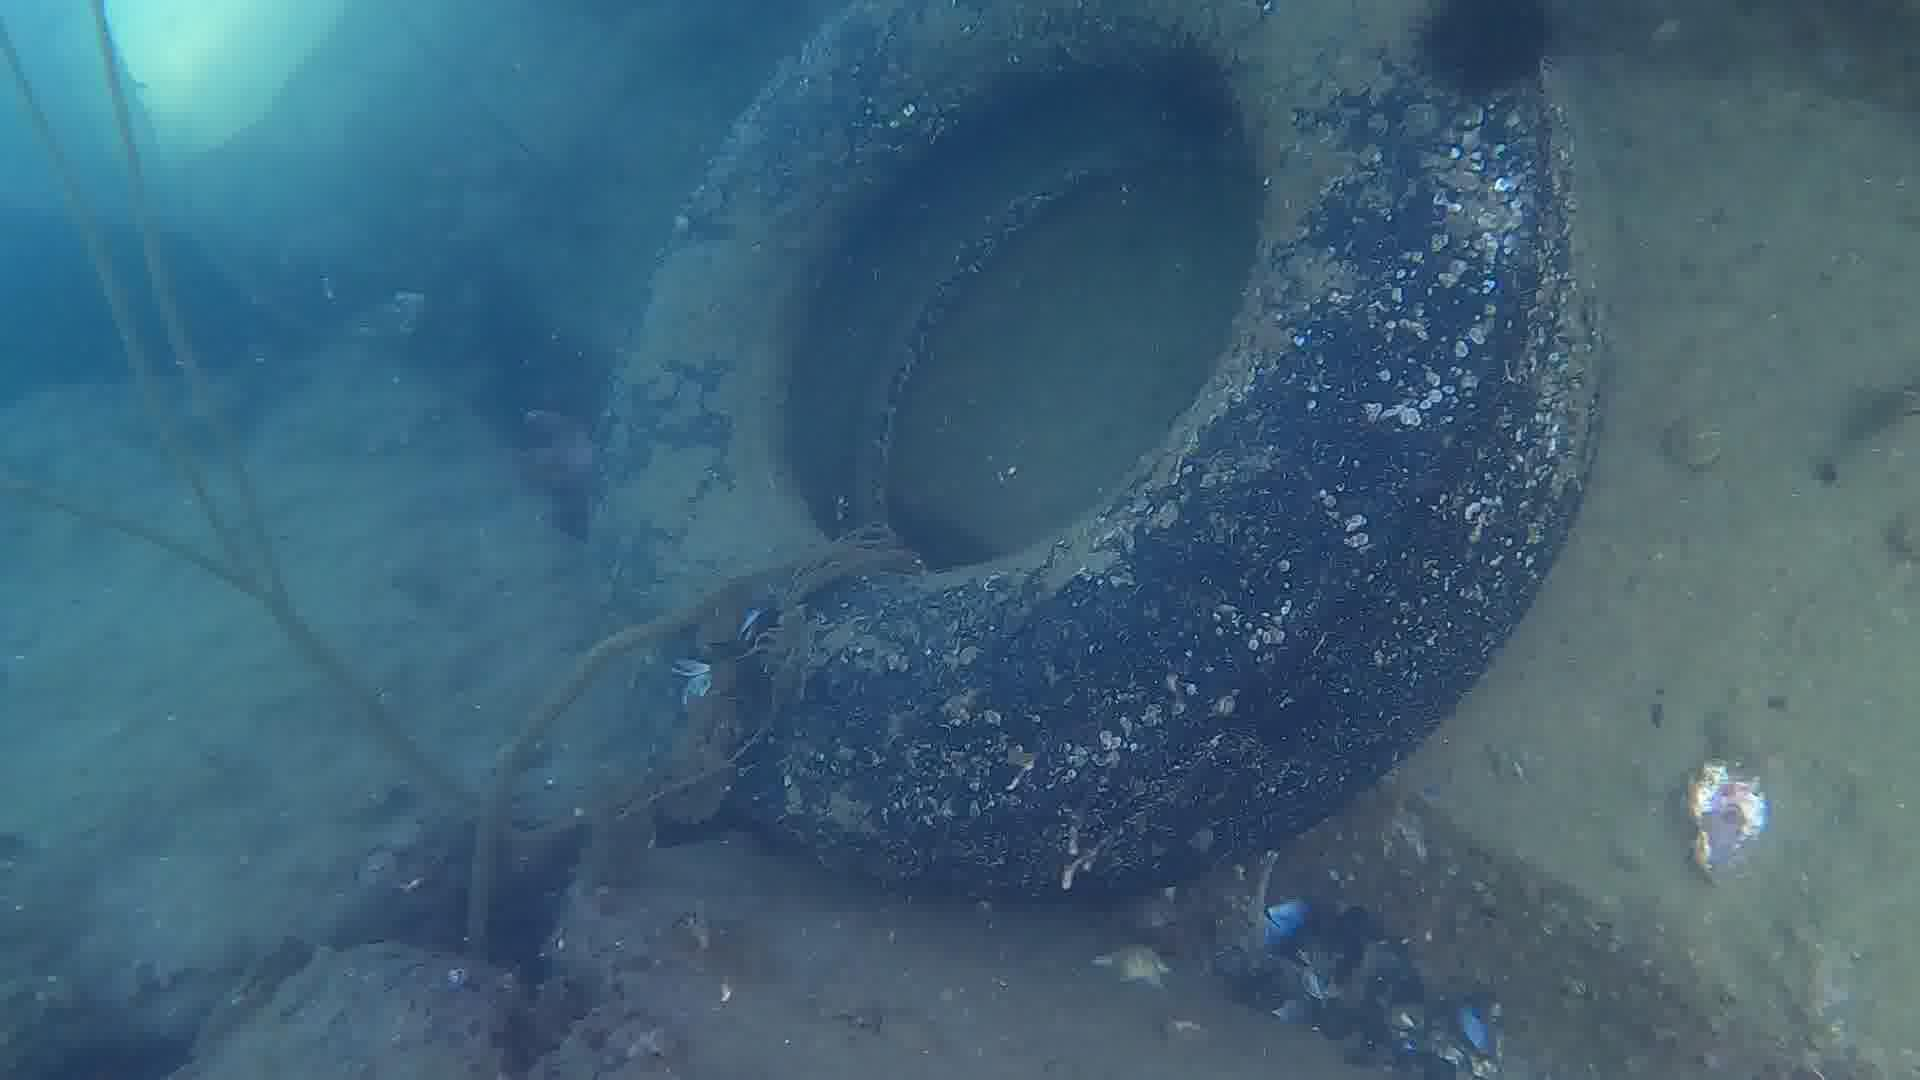tire: (582, 0, 1617, 909)
